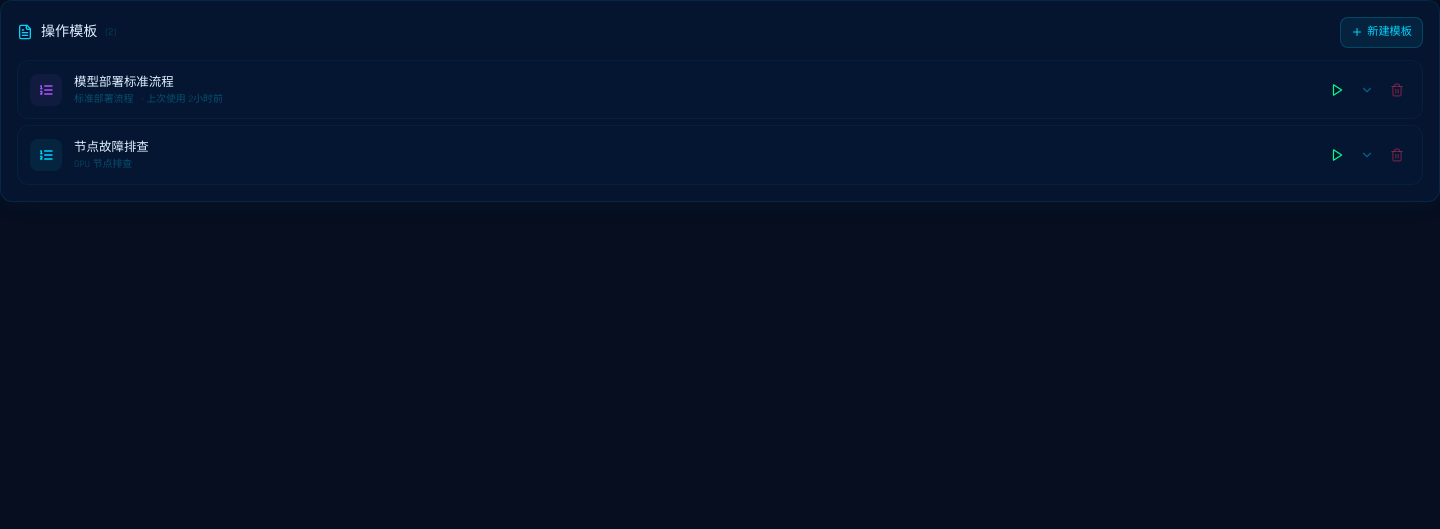
Test case: OperationTemplate › 新建模板 › 点击新建按钮应显示创建表单
Step 1. Click the button with test id "add-template-btn" → (1382, 32), box [1340,17,1423,48]
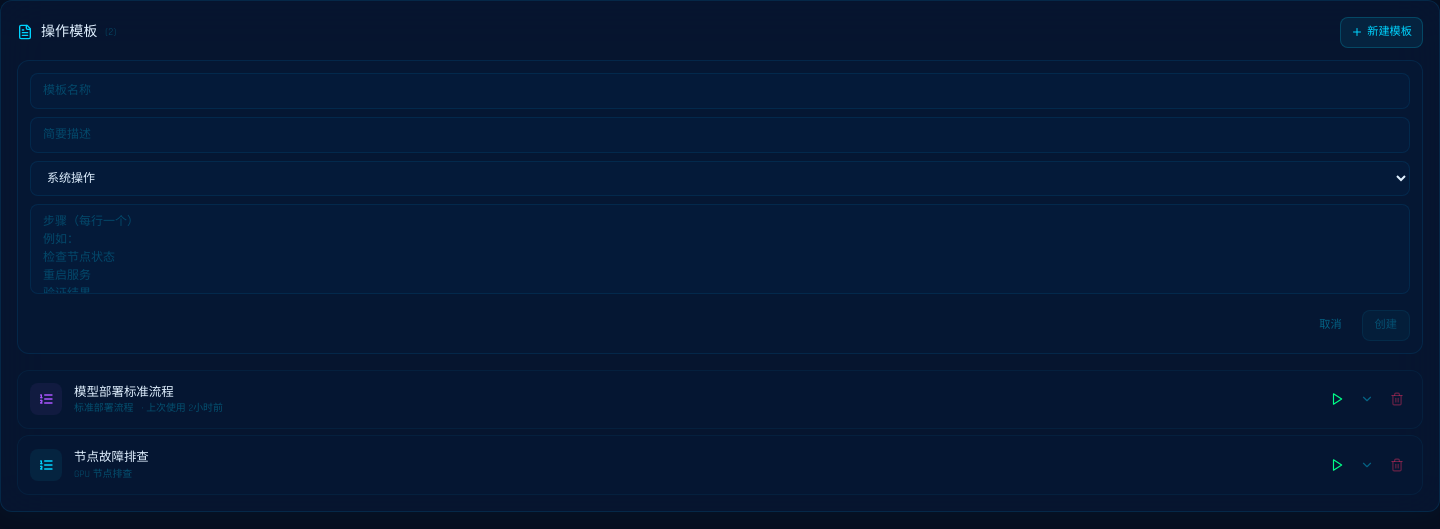
Result: the field with test id "template-name-input" is shown at [30,73,1410,109]
